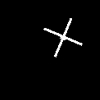single_crochet: (44, 18, 81, 56)
